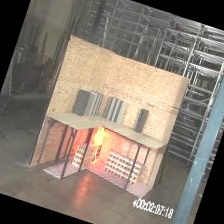fire: (87, 121, 121, 162)
